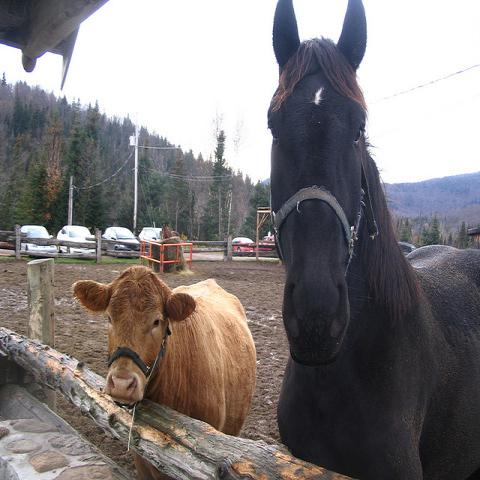car: (55, 225, 96, 254), (21, 225, 57, 253), (102, 227, 140, 251), (232, 237, 256, 252), (138, 228, 160, 243), (258, 235, 276, 251)
